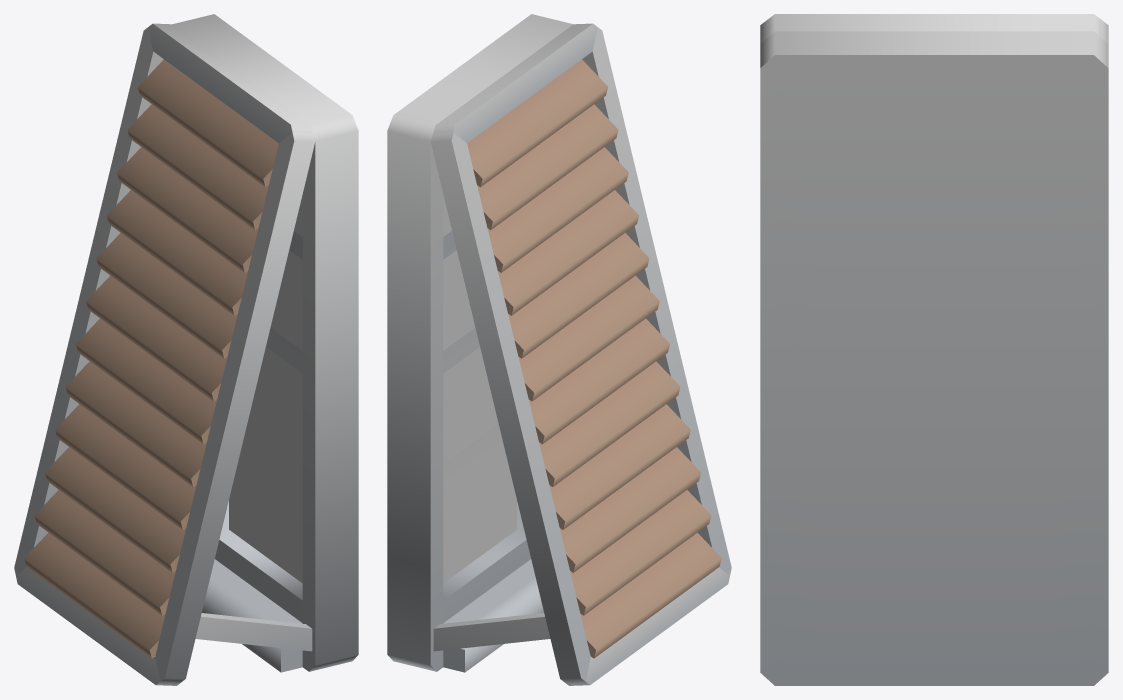
File: window-square-dividers-shutters (%wall).glb
3 views of the same model, side by side, from view 1: azimuth 30°, elevation 25°; view 2: azimuth 150°, elevation 25°; view 3: azimuth 270°, elevation 25° (orthographic). The views are drawn at different scales.
Visible parts, largest first — view 1: window-square-dividers-shutters (%wall); view 2: window-square-dividers-shutters (%wall); view 3: window-square-dividers-shutters (%wall).
Boxes of the visible parts, left/top/right/bottom form: window-square-dividers-shutters (%wall): left=14, top=14, right=358, bottom=685; window-square-dividers-shutters (%wall): left=387, top=14, right=731, bottom=685; window-square-dividers-shutters (%wall): left=760, top=14, right=1108, bottom=685.
Size of the model in its own units: 0.4524 by 1.21 by 0.6.
